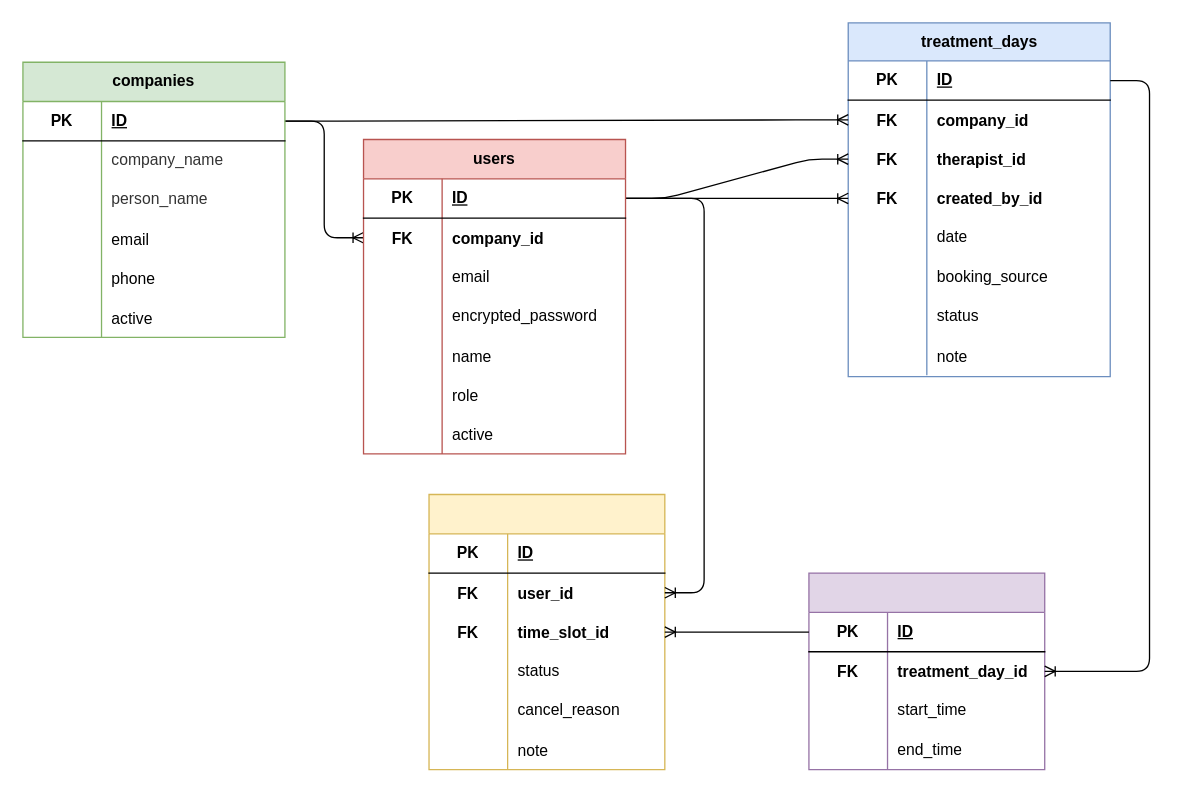
Some shapes in this 1183 by 793 pixel diagram are drawn without their labels. Each missing label, with the box of its shape:
reservations: (428, 493, 665, 770)
time_slots: (808, 572, 1045, 770)
